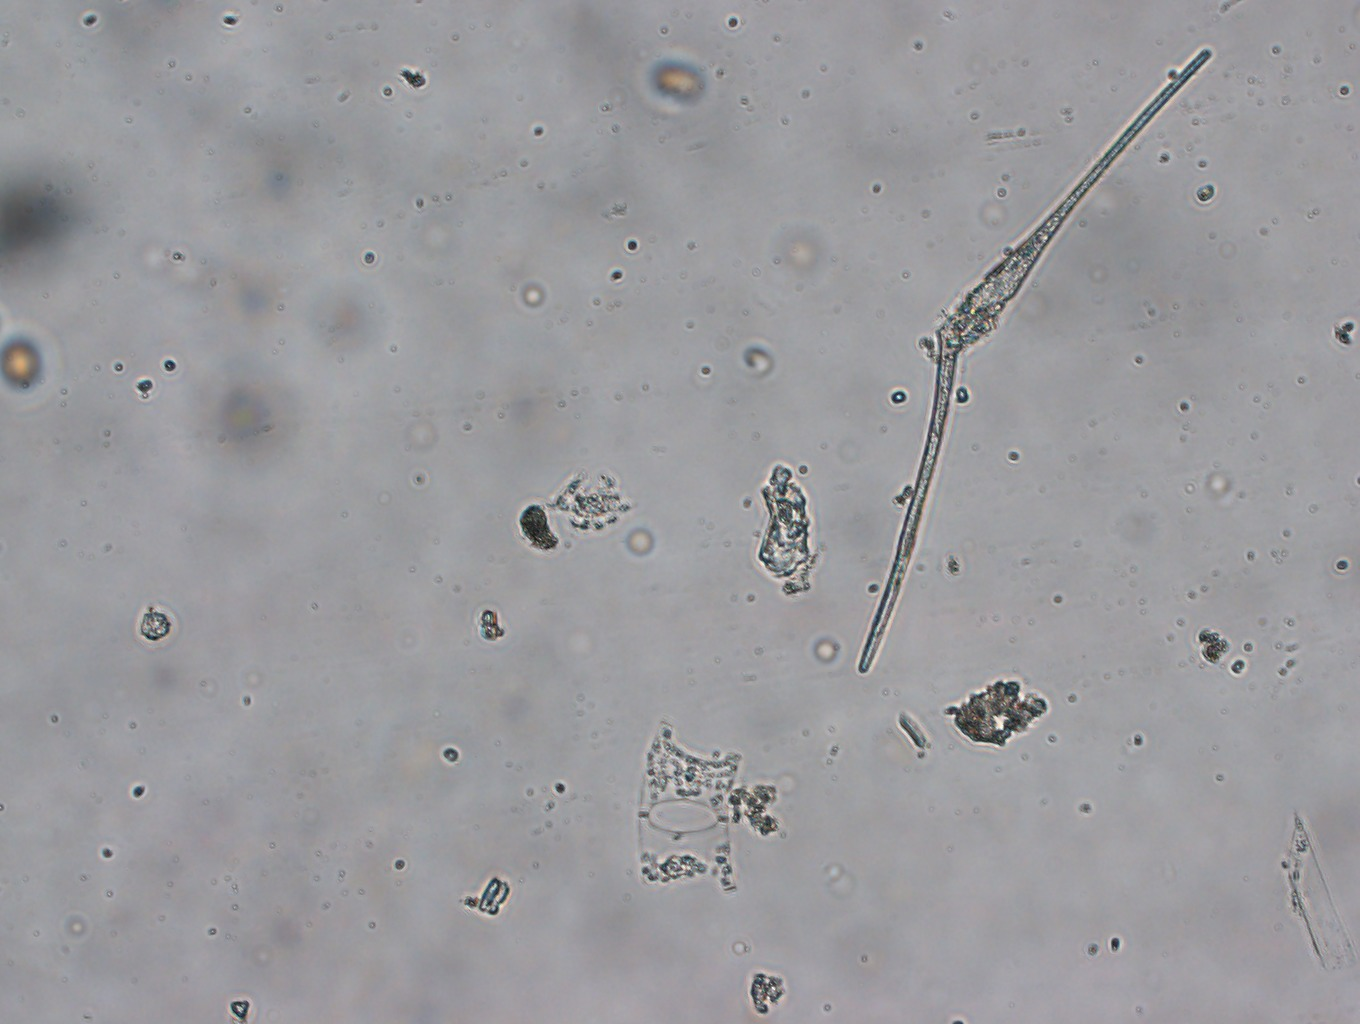ceratium fusus: (851, 35, 1213, 675)
